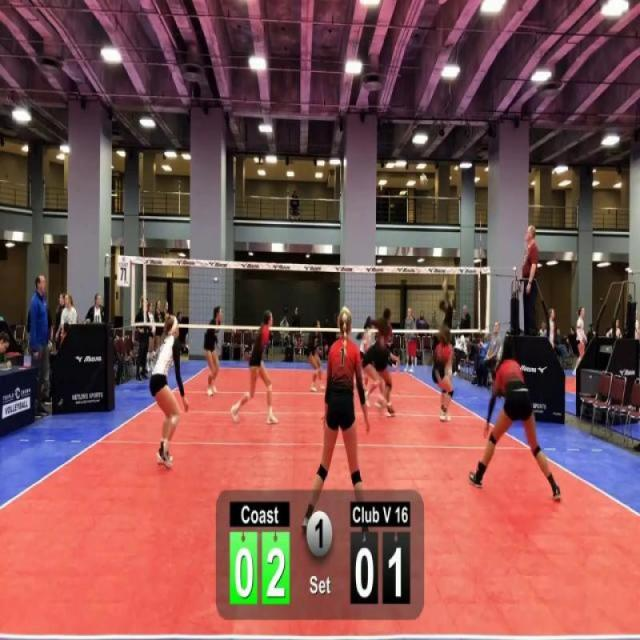volleyball: (418, 172, 429, 188)
